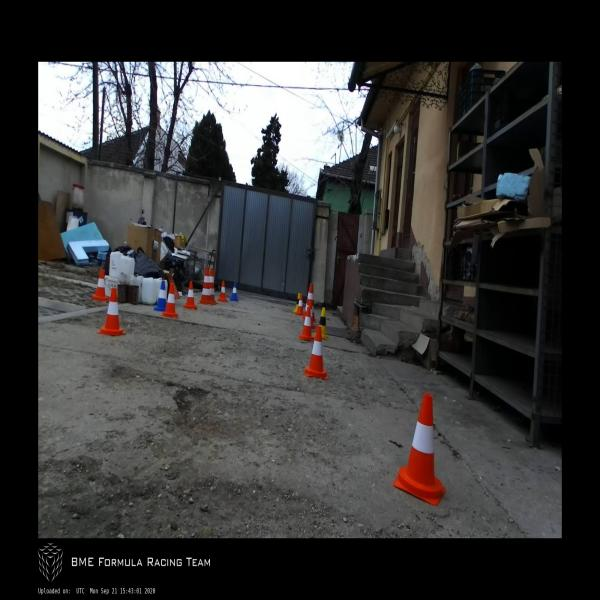blue_cone: (154, 280, 166, 312), (230, 282, 238, 302)
large_orange_cone: (197, 267, 213, 306), (303, 282, 315, 323), (209, 268, 218, 306)
orange_cone: (392, 392, 447, 507), (97, 288, 126, 335), (304, 326, 328, 380), (91, 268, 108, 302), (162, 282, 178, 318), (299, 306, 315, 342), (184, 282, 198, 310), (307, 300, 315, 328), (218, 280, 228, 302), (296, 294, 303, 315)
yellow_cone: (314, 306, 329, 340), (293, 292, 300, 312)
